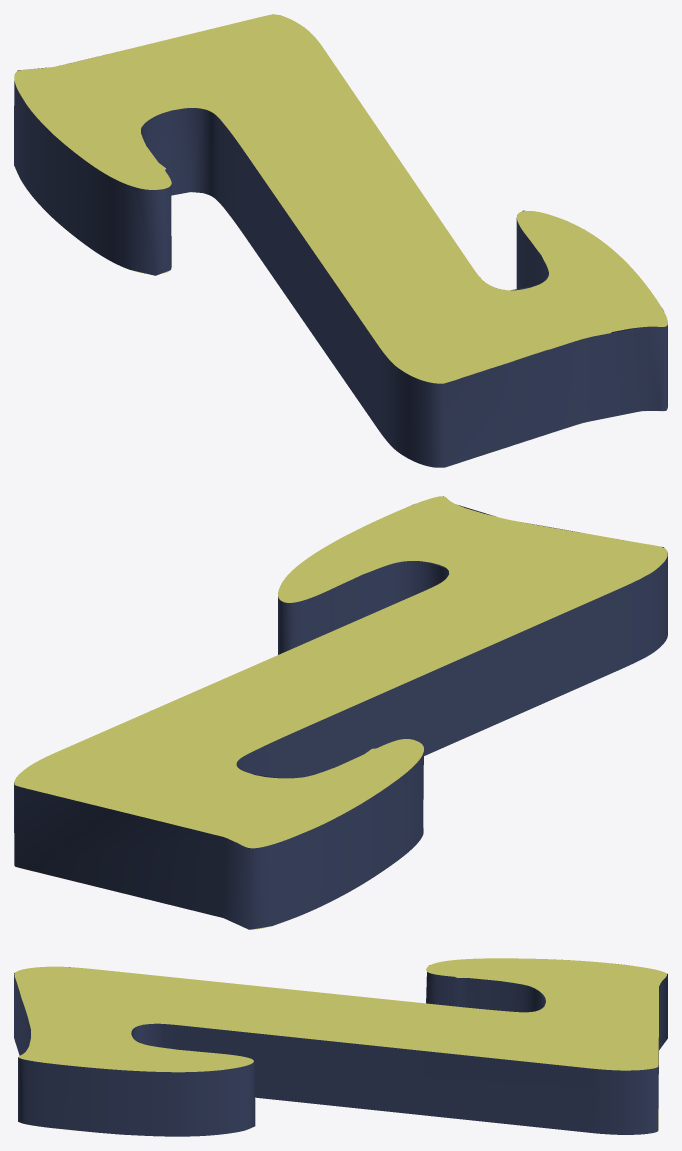
The model's file is z_boss.fbx.
3 views of the same model, one above another, from view 1: azimuth 30°, elevation 25°; view 2: azimuth 150°, elevation 25°; view 3: azimuth 270°, elevation 25° (orthographic). The views are drawn at different scales.
Visible parts, largest first — view 1: Z; view 2: Z; view 3: Z.
Part boxes in pixels (x1,y1,x2,y2): Z: (14,14,667,467); Z: (14,496,667,929); Z: (14,958,667,1136).
Bounding box in the file's own units: 0.606 × 0.1599 × 1.47.
